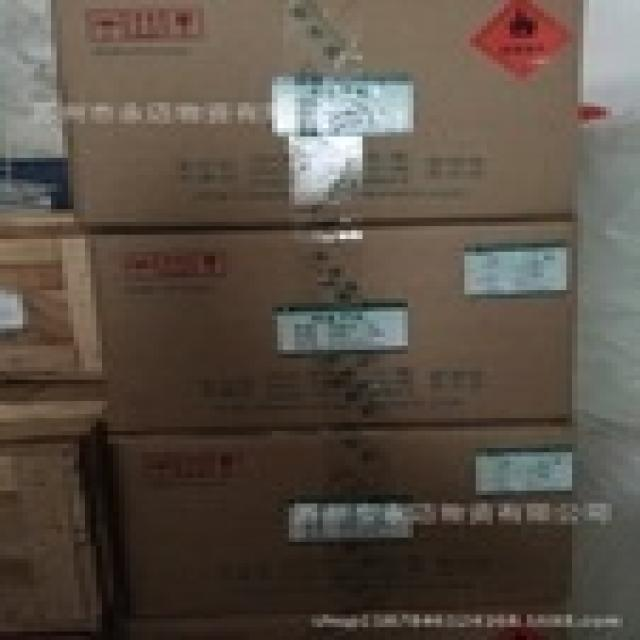box: (49, 0, 580, 231), (83, 222, 576, 435), (101, 426, 569, 621), (0, 380, 113, 627), (0, 209, 99, 381)
